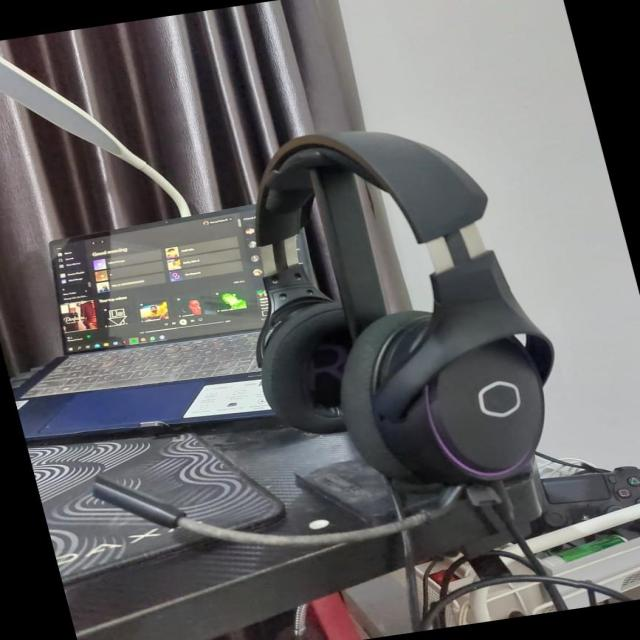earphone: (261, 147, 564, 497)
laptop_computer: (32, 195, 268, 464)
